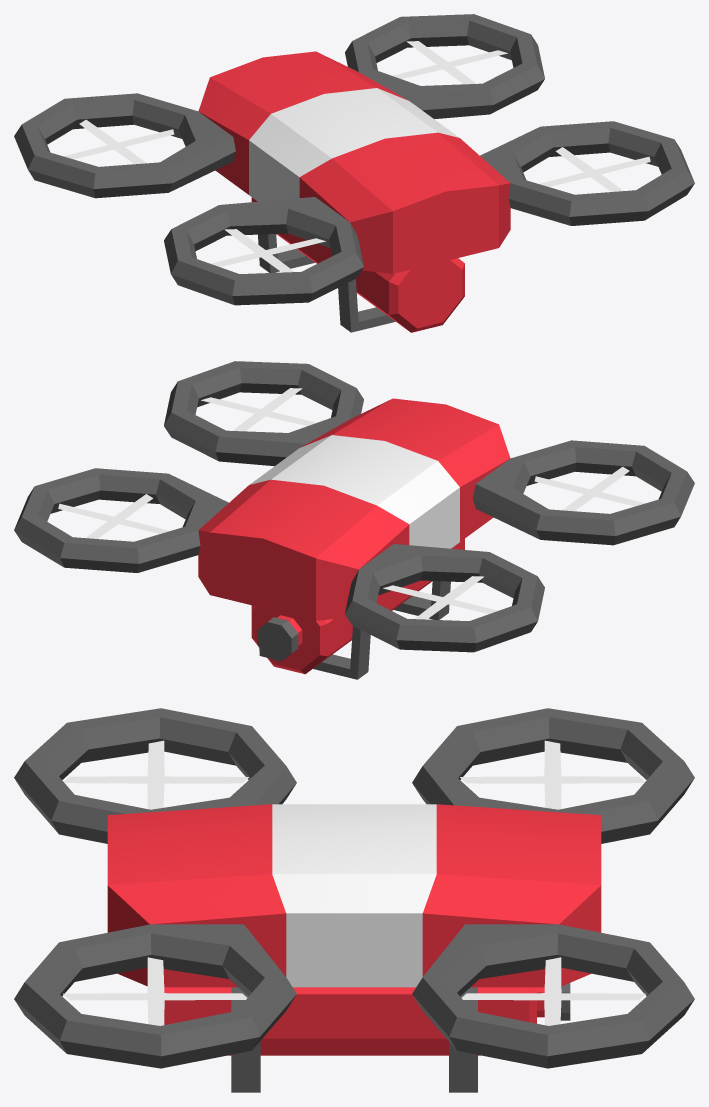
The model's file is modelo_item_drone.fbx.
The picture shows the model from 3 angles, top to bottom: view 1: azimuth 30°, elevation 25°; view 2: azimuth 150°, elevation 25°; view 3: azimuth 270°, elevation 25°; orthographic projection. The views are drawn at different scales.
Visible parts, largest first — view 1: Item Drone, Item Drone Helice 3, Item Drone Helice 1, Item Drone Helice 4, Item Drone Helice 2; view 2: Item Drone, Item Drone Helice 2, Item Drone Helice 4, Item Drone Helice 3, Item Drone Helice 1; view 3: Item Drone, Item Drone Helice 1, Item Drone Helice 2, Item Drone Helice 3, Item Drone Helice 4.
Part boxes in pixels (left/top/right/bottom): Item Drone: left=14, top=14, right=694, bottom=332; Item Drone Helice 3: left=392, top=41, right=507, bottom=84; Item Drone Helice 1: left=211, top=229, right=325, bottom=272; Item Drone Helice 4: left=539, top=147, right=650, bottom=191; Item Drone Helice 2: left=64, top=119, right=174, bottom=164; Item Drone: left=14, top=361, right=694, bottom=679; Item Drone Helice 2: left=383, top=576, right=498, bottom=619; Item Drone Helice 4: left=201, top=388, right=316, bottom=431; Item Drone Helice 3: left=58, top=494, right=169, bottom=538; Item Drone Helice 1: left=534, top=466, right=644, bottom=511; Item Drone: left=14, top=708, right=694, bottom=1092; Item Drone Helice 1: left=64, top=740, right=248, bottom=809; Item Drone Helice 2: left=460, top=740, right=644, bottom=809; Item Drone Helice 3: left=462, top=957, right=645, bottom=1025; Item Drone Helice 4: left=63, top=957, right=246, bottom=1025.
Bounding box in the file's own units: 195 × 62.62 × 167.
